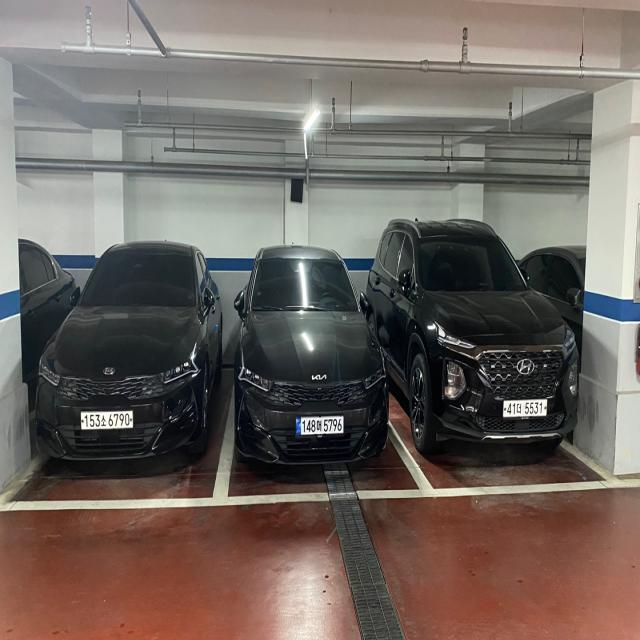occupied: (392, 216, 575, 446), (36, 238, 209, 464), (236, 241, 391, 473)
